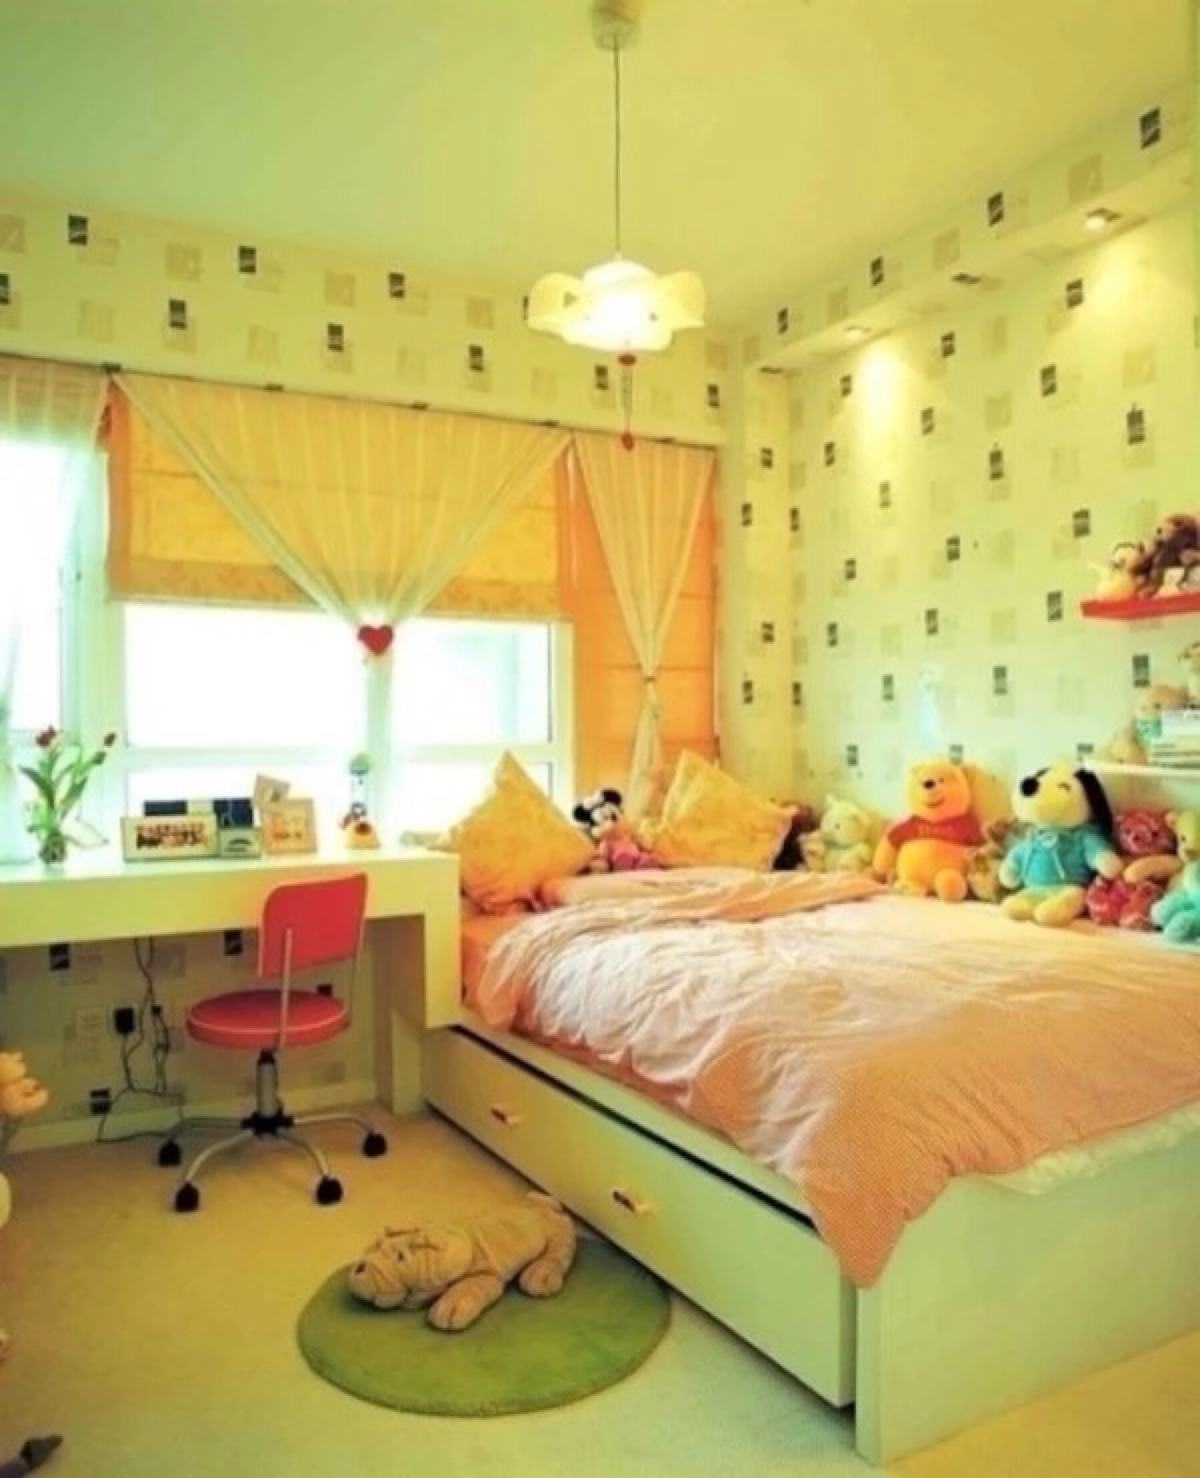床: (463, 868, 1200, 1360)
枕头: (460, 754, 803, 906)
灯: (519, 9, 704, 432)
